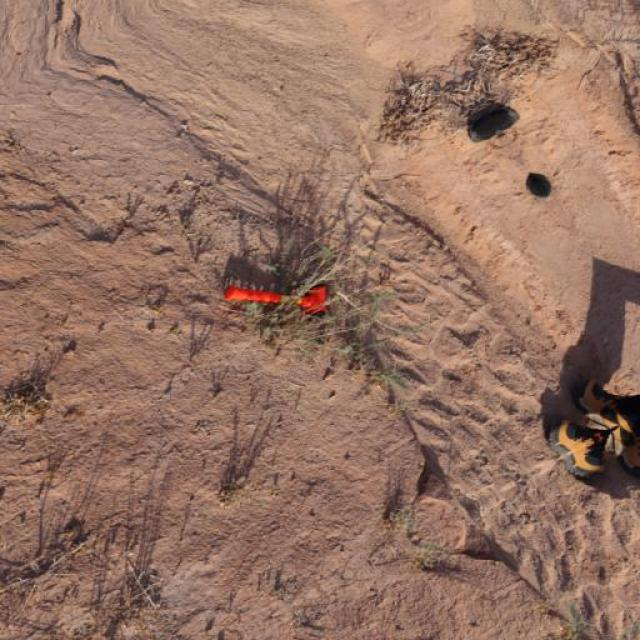mallet: (222, 283, 328, 315)
